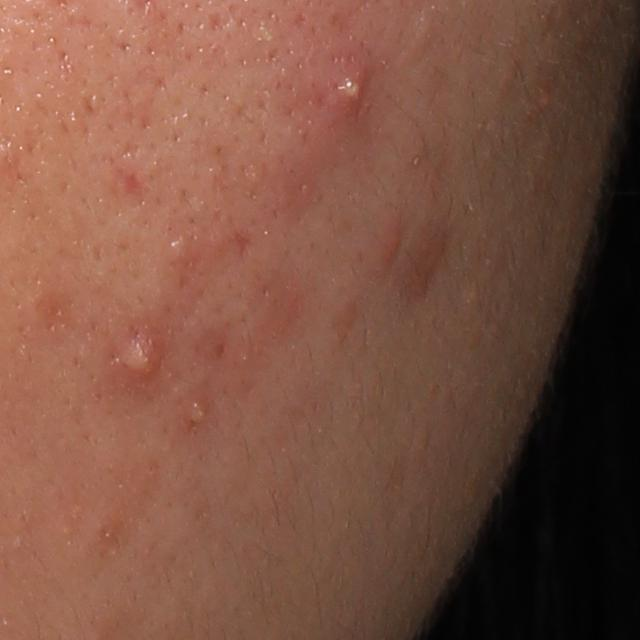comedo: (171, 235, 193, 258)
papule: (374, 215, 404, 284)
pustule: (116, 331, 164, 383), (330, 68, 374, 113), (181, 392, 209, 428)
